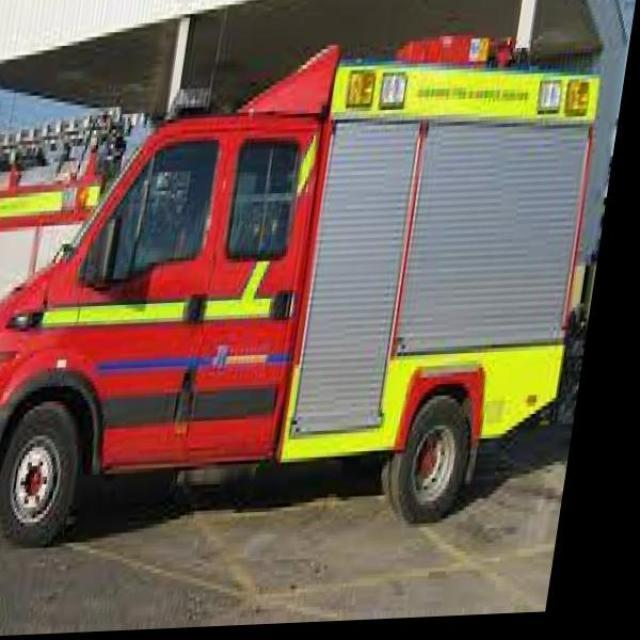emergency: (0, 27, 612, 549)
